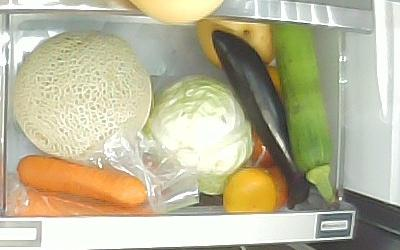cabbage: (145, 76, 253, 195)
carrot: (17, 154, 147, 207)
carrot_vinyl: (16, 188, 154, 216)
eggplant: (212, 30, 308, 209)
melon: (13, 31, 152, 163)
pear: (196, 20, 276, 67)
prune_vinyl: (251, 131, 275, 169), (267, 169, 288, 210)
tangerine: (223, 168, 277, 212)
zucchini: (273, 22, 336, 204)
